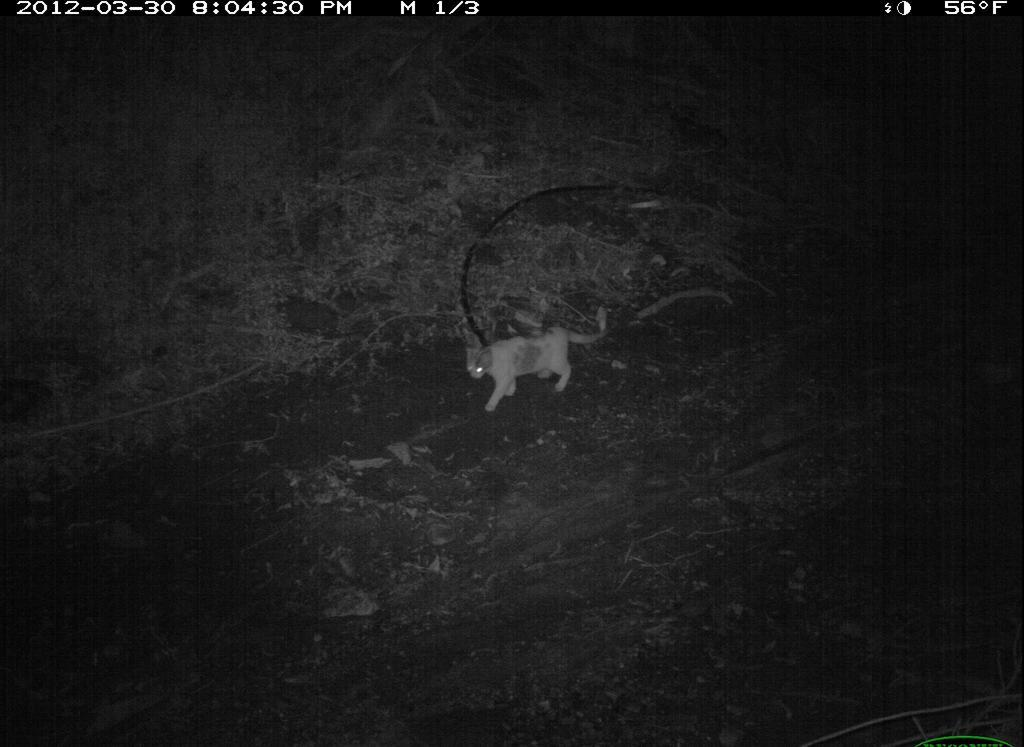cat: (460, 315, 617, 414)
